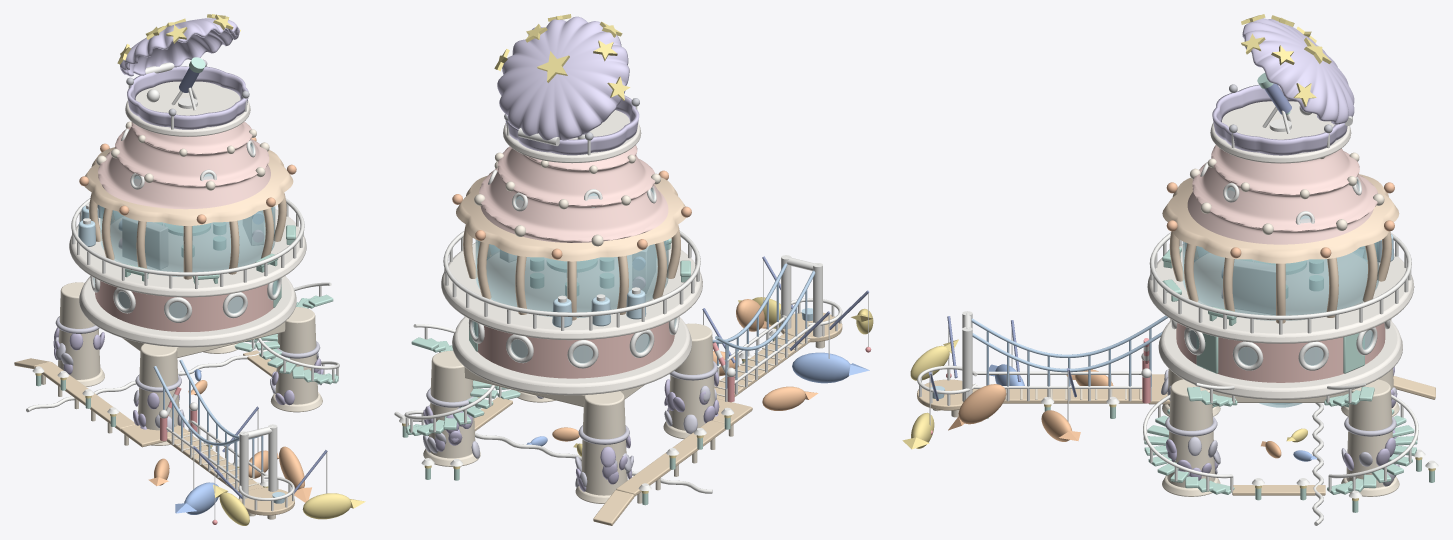
3 views of the same model, side by side, from view 1: azimuth 30°, elevation 25°; view 2: azimuth 150°, elevation 25°; view 3: azimuth 270°, elevation 25° (orthographic). The views are drawn at different scales.
Parts seen in each view (by area): view 1: 3F_まき貝, 2F_床とベランダ, 2F_ガラスのかべ, 1F_かべ, 1F_床, 2F_やね, ひらく貝のやね, てっぺん_下の貝, てっぺん_床, 柱_1-1, 柱_-11, 柱_-1-1 (+22 smaller); view 2: 3F_まき貝, ひらく貝のやね, 2F_床とベランダ, 2F_ガラスのかべ, 1F_かべ, 1F_床, 2F_やね, 柱_-11, 柱_-1-1, 柱_11, てっぺん_下の貝, てっぺん_床 (+17 smaller); view 3: 3F_まき貝, 2F_床とベランダ, 2F_ガラスのかべ, ひらく貝のやね, 2F_やね, 1F_床, 1F_かべ, てっぺん_床, てっぺん_下の貝, 柱_11, 柱_1-1, 2F_たな_右 (+15 smaller).
Boxes of the visible parts, left/top/right/bottom form: 3F_まき貝: left=98, top=121, right=270, bottom=209; 2F_床とベランダ: left=69, top=208, right=306, bottom=297; 2F_ガラスのかべ: left=100, top=206, right=275, bottom=276; 1F_かべ: left=95, top=281, right=273, bottom=331; 1F_床: left=79, top=276, right=296, bottom=347; 2F_やね: left=84, top=147, right=293, bottom=225; ひらく貝のやね: left=120, top=18, right=239, bottom=76; てっぺん_下の貝: left=127, top=66, right=248, bottom=129; てっぺん_床: left=125, top=81, right=250, bottom=136; 柱_1-1: left=275, top=307, right=318, bottom=404; 柱_-11: left=58, top=282, right=100, bottom=379; 柱_-1-1: left=138, top=343, right=179, bottom=430; 3F_まき貝: left=479, top=145, right=668, bottom=242; ひらく貝のやね: left=497, top=16, right=629, bottom=140; 2F_床とベランダ: left=441, top=242, right=702, bottom=340; 2F_ガラスのかべ: left=475, top=240, right=668, bottom=317; 1F_かべ: left=477, top=322, right=674, bottom=378; 1F_床: left=452, top=316, right=691, bottom=395; 2F_やね: left=456, top=175, right=685, bottom=261; 柱_-11: left=581, top=391, right=627, bottom=495; 柱_-1-1: left=669, top=323, right=714, bottom=430; 柱_11: left=429, top=350, right=475, bottom=458; てっぺん_下の貝: left=505, top=95, right=639, bottom=155; てっぺん_床: left=503, top=110, right=641, bottom=163; 3F_まき貝: left=1187, top=145, right=1377, bottom=244; 2F_床とベランダ: left=1147, top=244, right=1414, bottom=343; 2F_ガラスのかべ: left=1182, top=241, right=1379, bottom=320; ひらく貝のやね: left=1242, top=18, right=1354, bottom=124; 2F_やね: left=1162, top=174, right=1399, bottom=263; 1F_床: left=1158, top=320, right=1402, bottom=399; 1F_かべ: left=1176, top=323, right=1385, bottom=382; てっぺん_床: left=1210, top=101, right=1351, bottom=163; てっぺん_下の貝: left=1212, top=85, right=1347, bottom=155; 柱_11: left=1346, top=379, right=1392, bottom=488; 柱_1-1: left=1167, top=379, right=1215, bottom=488; 2F_たな_右: left=1233, top=259, right=1275, bottom=314.
Bounding box in the file's own units: 201 × 255 × 288.
